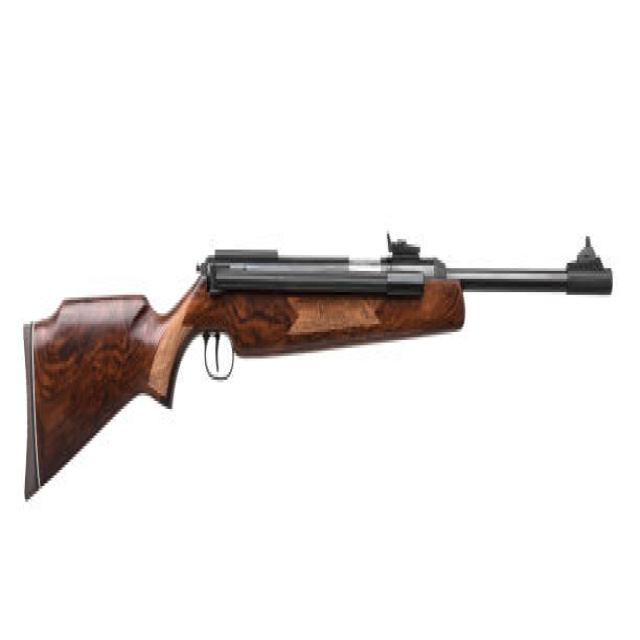rifle: (16, 220, 618, 522)
